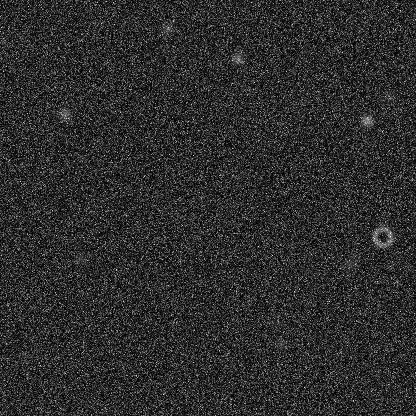Ring: (370, 224, 394, 248)
Spot: (358, 112, 374, 128), (56, 106, 72, 122), (73, 250, 89, 266), (229, 50, 245, 66), (158, 20, 174, 36), (379, 89, 395, 105), (342, 256, 358, 272), (272, 335, 288, 351), (266, 314, 282, 330)
